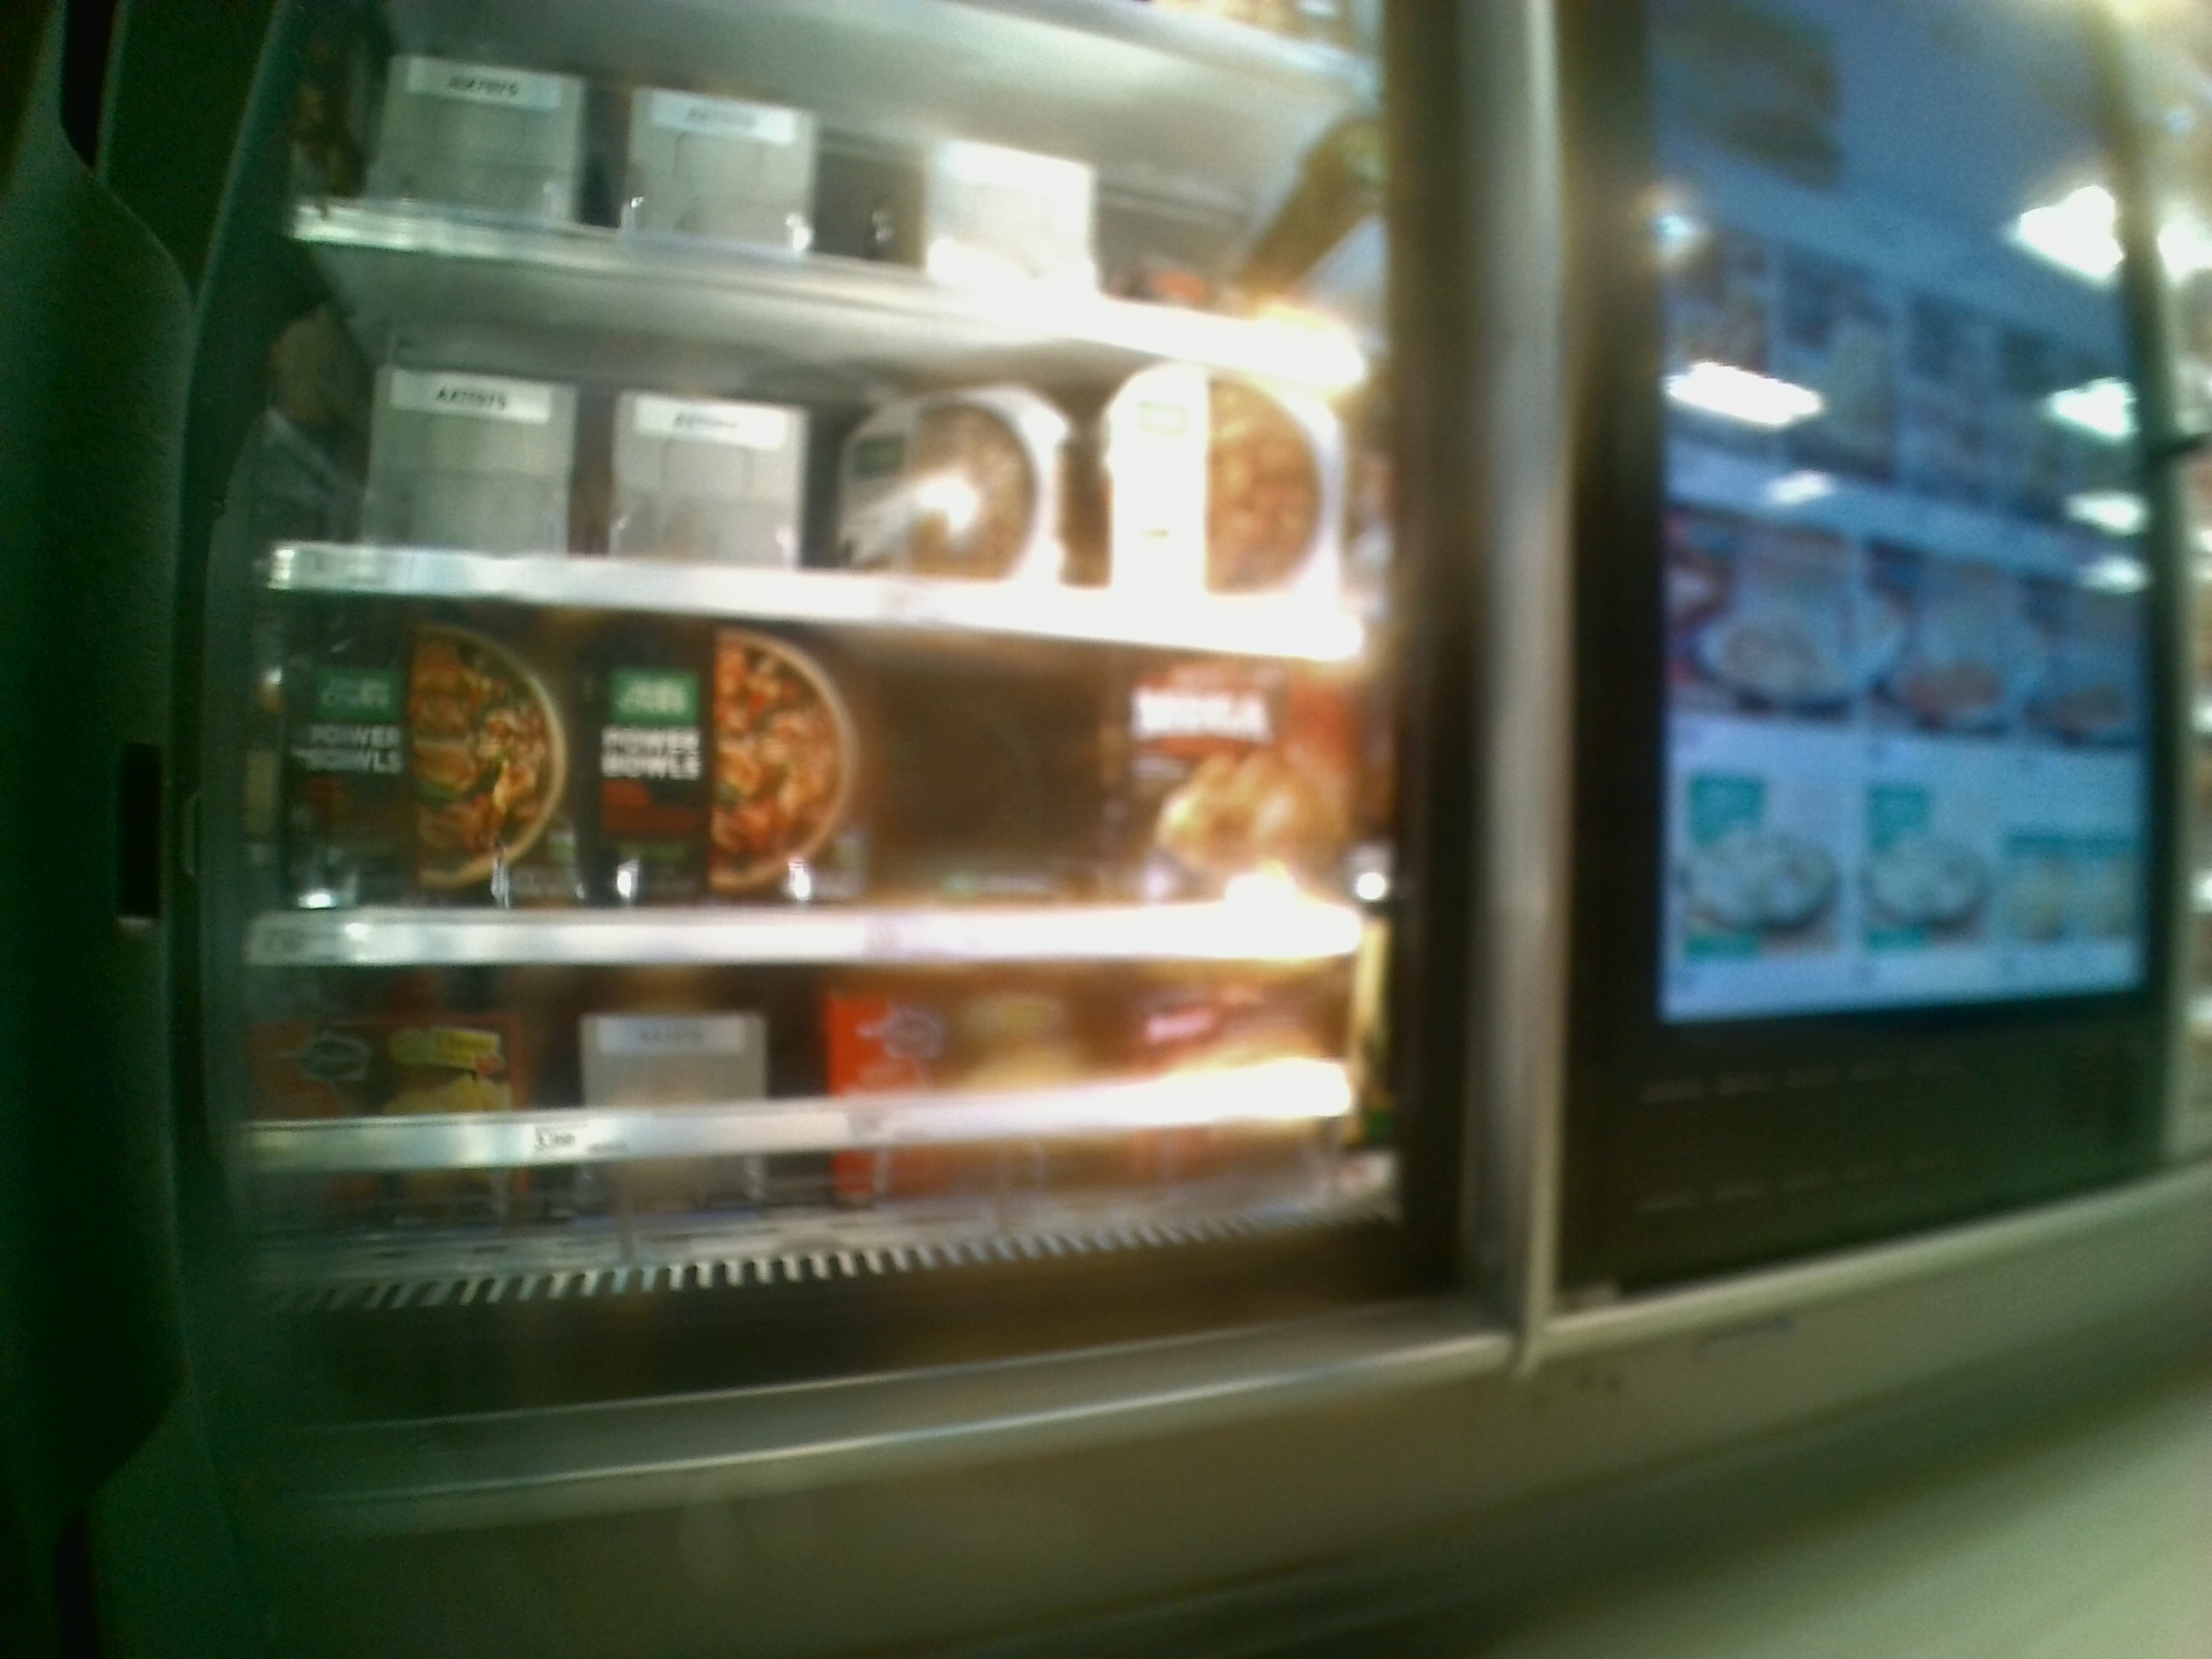shelf: (223, 962, 1413, 1319), (256, 586, 1360, 962)
